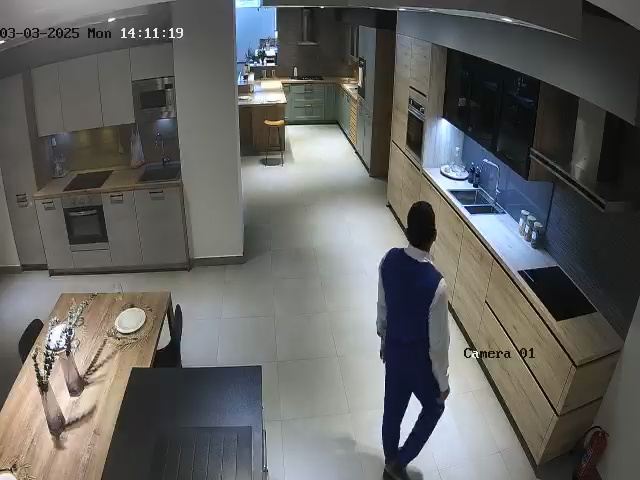employee: (376, 201, 451, 480)
